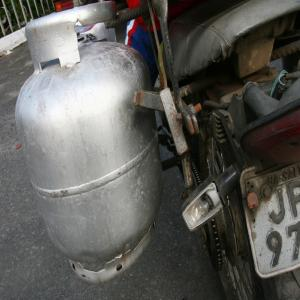Vehicle-registration-plate: (246, 163, 299, 287)
